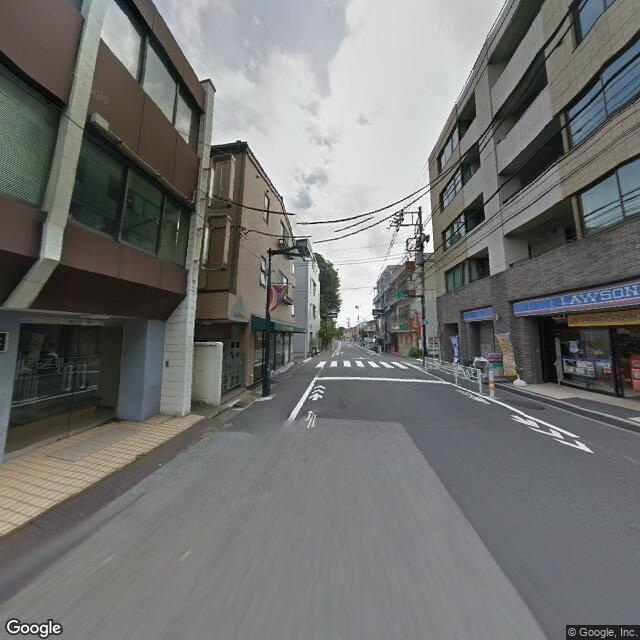lawson: (465, 275, 638, 329)
